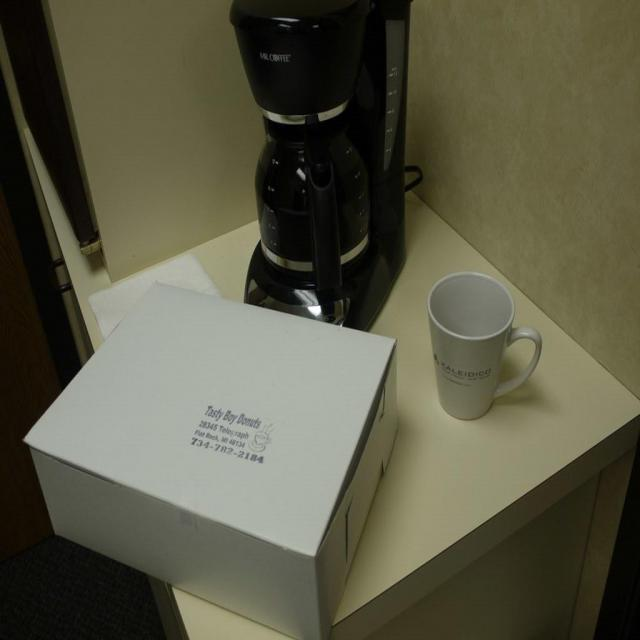cup-handle: (430, 272, 542, 422)
